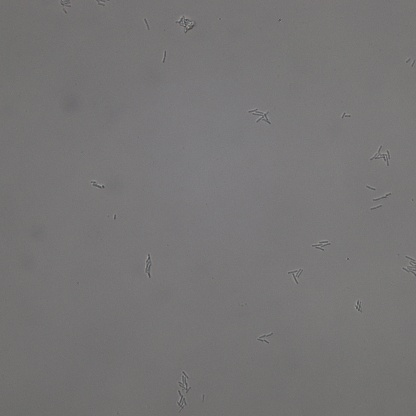R(colony): (248, 105, 271, 124), (371, 145, 391, 166), (177, 371, 193, 392), (176, 391, 188, 413), (288, 268, 303, 285), (312, 239, 331, 252), (257, 331, 274, 345)
